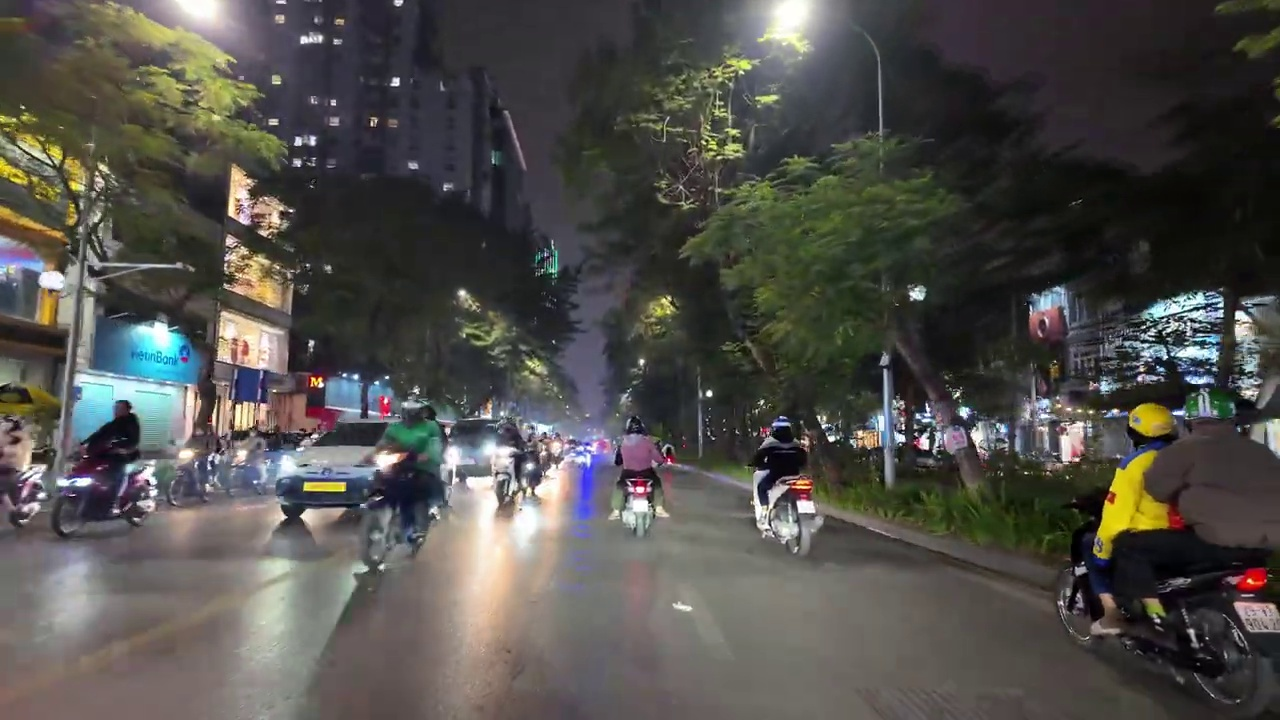acesa: (766, 4, 811, 44)
